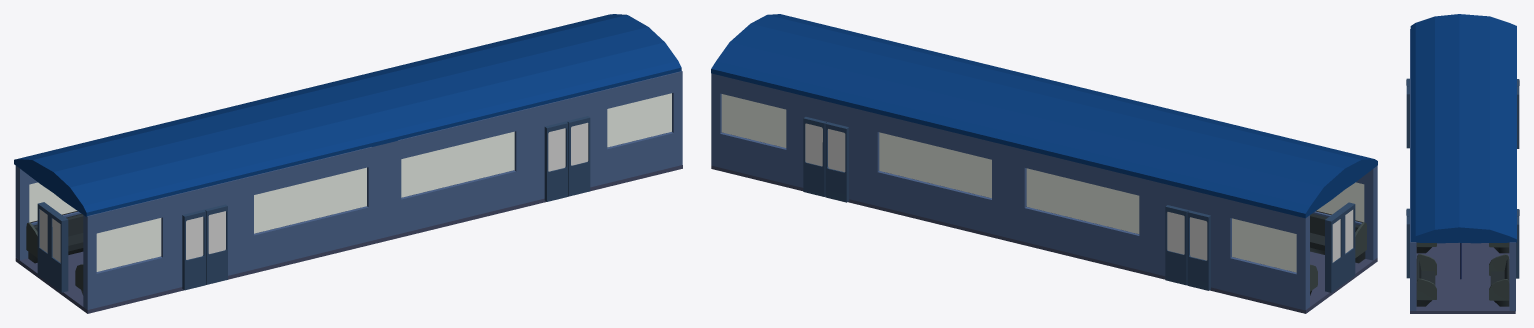
The model's file is Train BG1.fbx.
3 renders of one model, left to right at view 1: azimuth 30°, elevation 25°; view 2: azimuth 150°, elevation 25°; view 3: azimuth 270°, elevation 25°, orthographic. The views are drawn at different scales.
Visible parts, largest first — view 1: Atap, Tembok.004, Tembok.005, Kaca Gede.003, Kaca Gede.002, Lantai, Kaca Kecil.003, Kaca Kecil.002, Tembok, Pintu(bg).007, Pintu.003, Pintu(bg).004 (+9 smaller); view 2: Atap, Tembok, Tembok.001, Kaca Gede, Kaca Gede.001, Lantai, Kaca Kecil, Kaca Kecil.001, Tembok.004, Pintu.004, Pintu(bg).001, Pintu(bg).003 (+9 smaller); view 3: Atap, Lantai, HandRest.004, HandRest.006, Tembok.005, Tembok.001, Kursi.004, Kursi.006, Pintu(bg).006, Pintu(bg).008, Pintu(bg).005, Pintu(bg).002 (+4 smaller).
Boxes of the visible parts, box(x1,y1,x2,y2) form: Atap: box(14, 14, 681, 217); Tembok.004: box(83, 144, 384, 309); Tembok.005: box(385, 71, 682, 237); Kaca Gede.003: box(401, 131, 514, 197); Kaca Gede.002: box(254, 167, 366, 233); Lantai: box(15, 165, 682, 313); Kaca Kecil.003: box(96, 218, 161, 271); Kaca Kecil.002: box(607, 93, 671, 147); Tembok: box(15, 166, 81, 260); Pintu(bg).007: box(544, 121, 568, 201); Pintu.003: box(49, 211, 68, 292); Pintu(bg).004: box(182, 209, 205, 290); Atap: box(711, 14, 1377, 218); Tembok: box(1008, 146, 1309, 310); Tembok.001: box(711, 73, 1008, 237); Kaca Gede: box(1026, 168, 1139, 233); Kaca Gede.001: box(879, 132, 991, 198); Lantai: box(711, 165, 1377, 313); Kaca Kecil: box(721, 94, 786, 147); Kaca Kecil.001: box(1232, 218, 1296, 272); Tembok.004: box(1312, 166, 1377, 260); Pintu.004: box(1325, 211, 1343, 292); Pintu(bg).001: box(1187, 210, 1210, 290); Pintu(bg).003: box(825, 122, 849, 202); Atap: box(1410, 14, 1516, 243); Lantai: box(1410, 242, 1515, 313); HandRest.004: box(1489, 254, 1508, 300); HandRest.006: box(1417, 254, 1436, 299); Tembok.005: box(1410, 140, 1416, 310); Tembok.001: box(1509, 242, 1515, 310); Kursi.004: box(1490, 259, 1509, 306); Kursi.006: box(1416, 259, 1435, 306); Pintu(bg).006: box(1406, 86, 1409, 148); Pintu(bg).008: box(1406, 216, 1409, 278); Pintu(bg).005: box(1516, 217, 1519, 278); Pintu(bg).002: box(1517, 87, 1519, 148).
Size of the model in its own units: 5270 by 991 by 1176.
